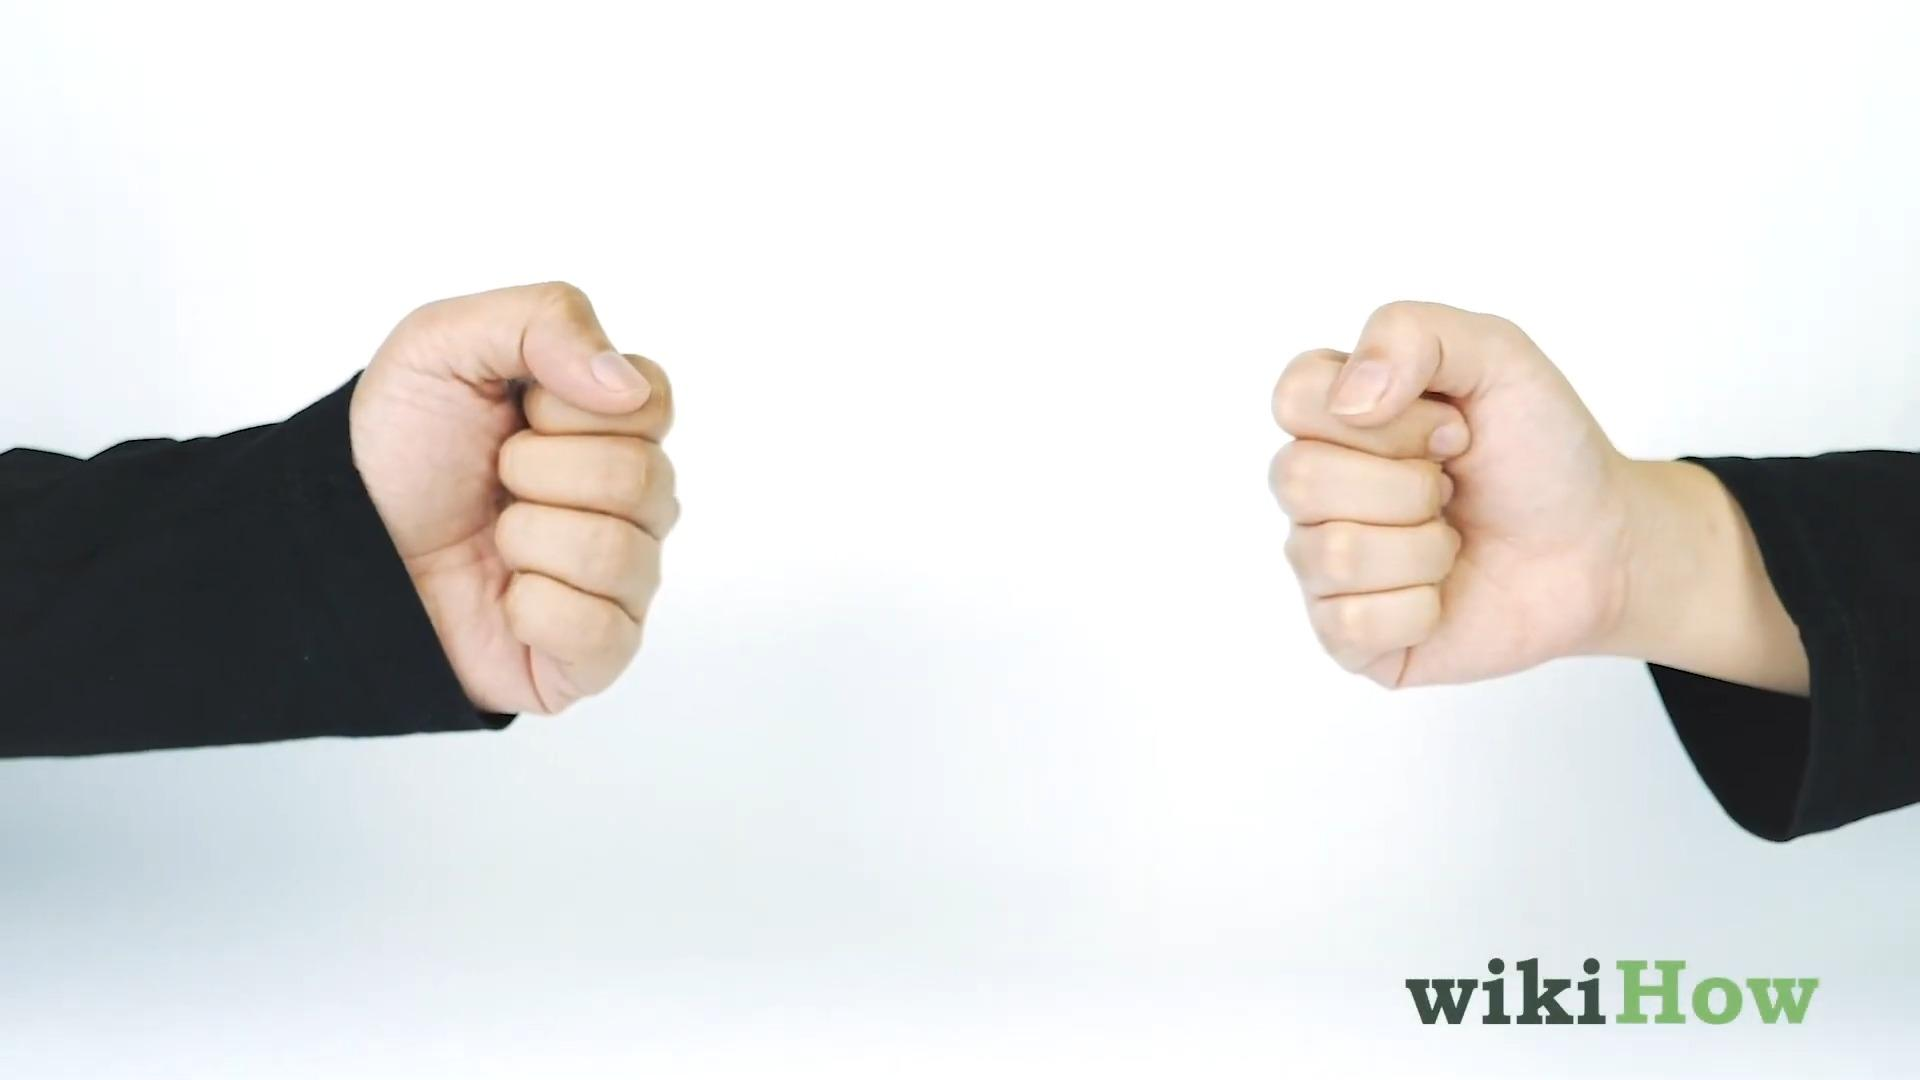Rock: (343, 276, 680, 713), (1259, 295, 1623, 692)
